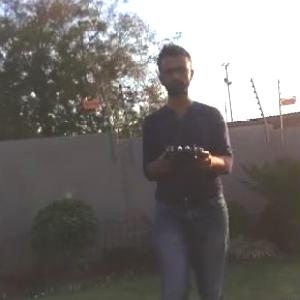follow: (137, 38, 241, 299)
